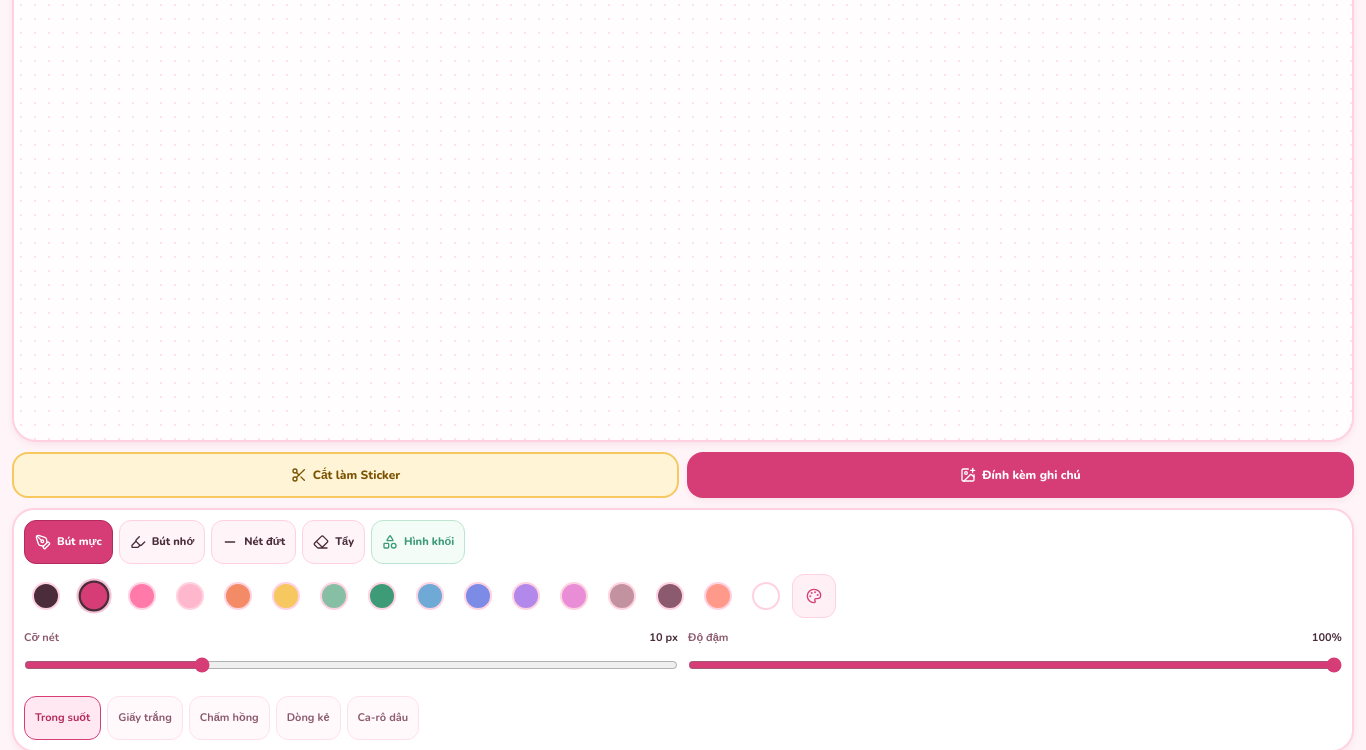
Scenario: DrawingStudio › renders 4 brushes, 16 swatches, sliders, 5 backgrounds, and shape presets
(page scrolled)
Check: the text "Bút mực" is shown, box [57,534,102,550]
Check: the text "Bút nhớ" is shown, box [152,534,194,550]
Click the button "Hình khối": (418, 542) [371,520,465,564]
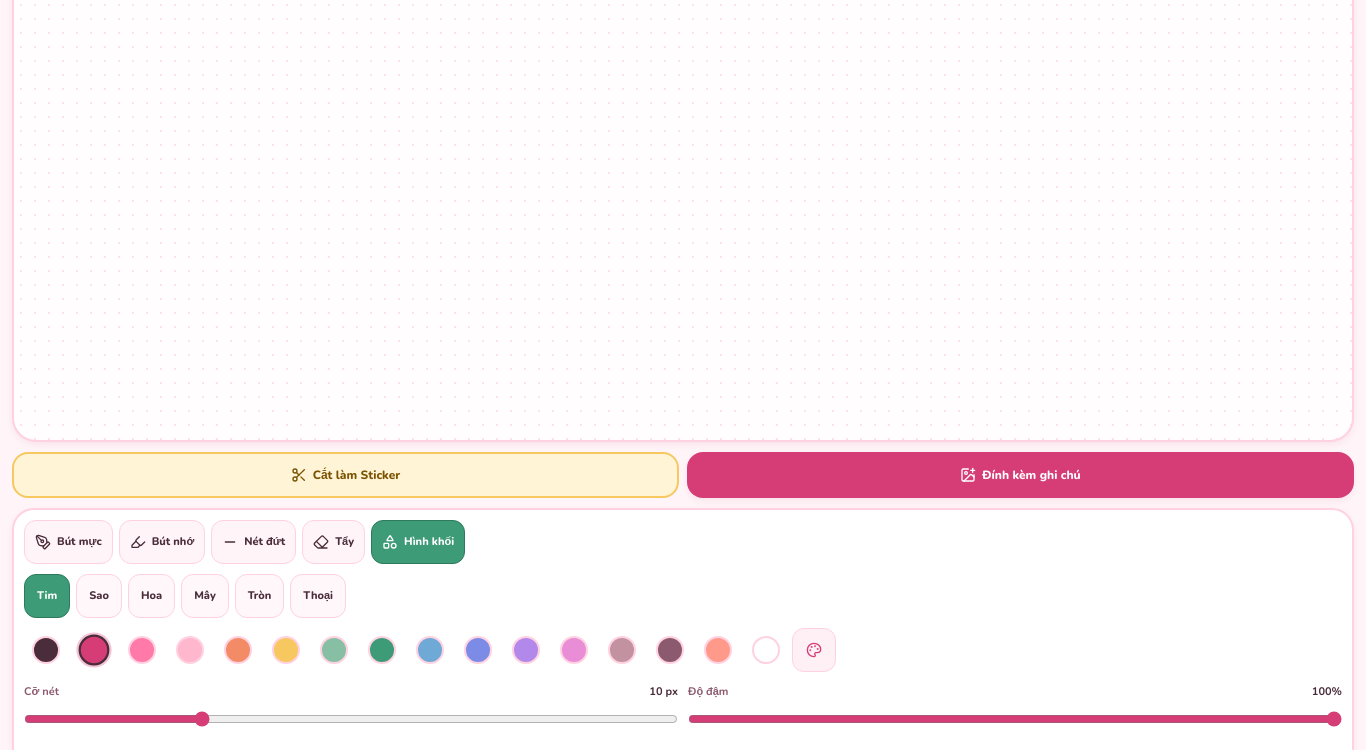
Check: the button "Tim" is shown, box [24,574,70,618]
Check: the button "Sao" is shown, box [76,574,122,618]
Check: the button "Hoa" is shown, box [128,574,175,618]
Note: Empty canvas shows helpful error on Cut Sticker
Click the button "Cắt làm Sticker": (346, 475) [12,452,679,498]
(page scrolled)
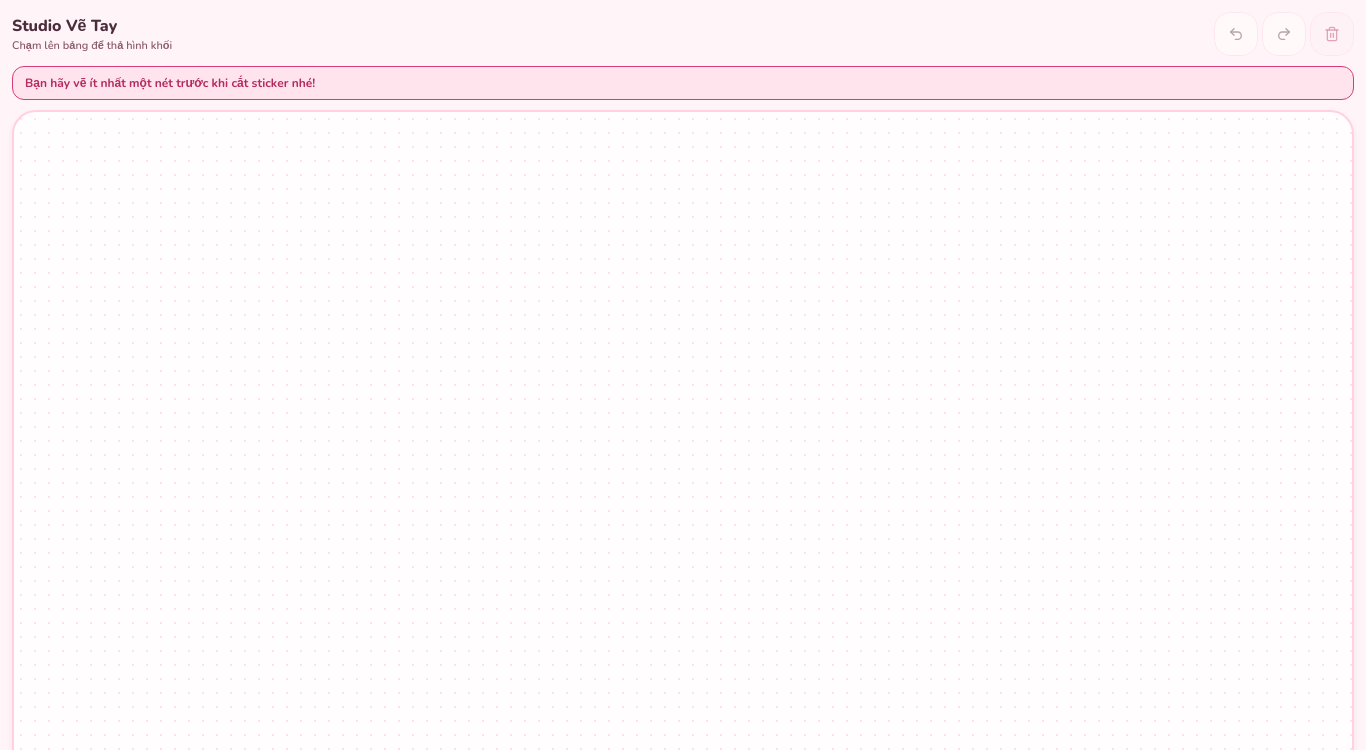
Check: the message reads "Bạn hãy vẽ ít nhất một nét trước khi cắt sticker nhé!", box [25,75,315,91]
